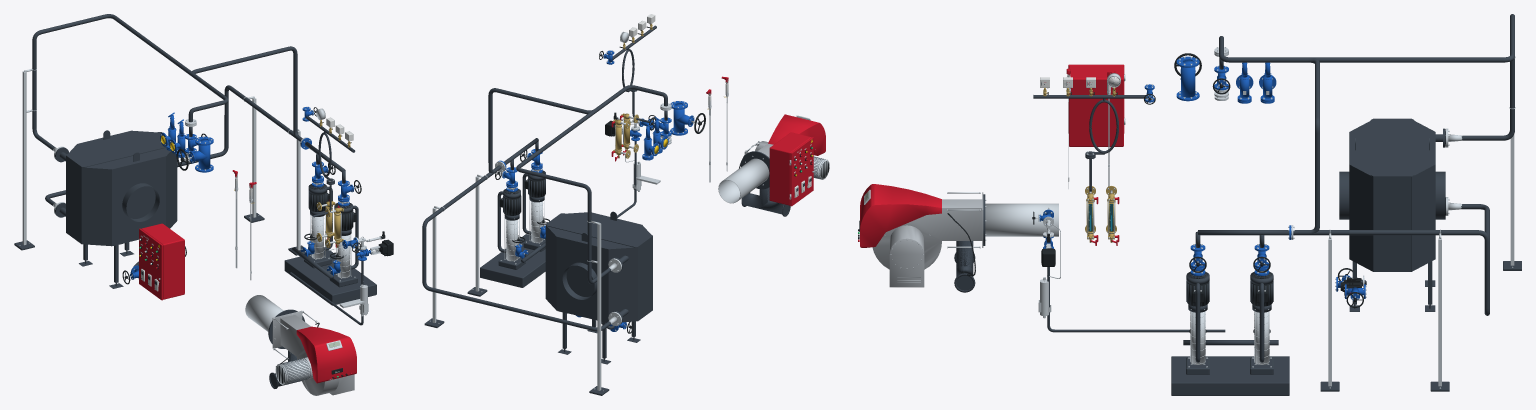
Rendered from s3000-equipment.glb.
3 renders of one model, left to right at view 1: azimuth 30°, elevation 25°; view 2: azimuth 150°, elevation 25°; view 3: azimuth 270°, elevation 25°, orthographic. The views are drawn at different scales.
Parts seen in each view (by area): view 1: economizer geometry, burner geometry, control_cabinet geometry, feed_from_economizer geometry, feed_to_economizer geometry, Pump skid, feed_direct geometry, feed_pumps_2 geometry, feed_pumps_1 geometry, feed_piping geometry, steam_valve geometry, pressure_header geometry (+5 smaller); view 2: economizer geometry, burner geometry, feed_to_economizer geometry, control_cabinet geometry, feed_from_economizer geometry, Pump skid, feed_pumps_2 geometry, feed_direct geometry, feed_pumps_1 geometry, feed_piping geometry, steam_valve geometry, pressure_header geometry (+2 smaller); view 3: economizer geometry, burner geometry, Pump skid, control_cabinet geometry, feed_to_economizer geometry, feed_from_economizer geometry, feed_piping geometry, feed_pumps_2 geometry, feed_pumps_1 geometry, feed_direct geometry, pressure_header geometry, steam_valve geometry (+1 smaller).
Part boxes in pixels (x1,y1,x2,y2): economizer geometry: (55,130,177,288); burner geometry: (245,295,356,395); control_cabinet geometry: (139,223,184,300); feed_from_economizer geometry: (14,14,228,250); feed_to_economizer geometry: (45,85,304,255); Pump skid: (284,249,376,305); feed_direct geometry: (186,46,307,145); feed_pumps_2 geometry: (304,184,331,268); feed_pumps_1 geometry: (329,203,357,287); feed_piping geometry: (185,123,358,279); steam_valve geometry: (176,136,213,172); pressure_header geometry: (306,116,355,217); economizer geometry: (545,211,652,364); burner geometry: (718,114,829,216); feed_to_economizer geometry: (422,161,621,331); control_cabinet geometry: (769,132,813,206); feed_from_economizer geometry: (516,85,671,395); Pump skid: (480,234,545,287); feed_pumps_2 geometry: (498,189,525,269); feed_direct geometry: (488,85,670,173); feed_pumps_1 geometry: (523,170,545,251); feed_piping geometry: (497,107,671,262); steam_valve geometry: (670,101,705,135); pressure_header geometry: (612,25,656,122); economizer geometry: (1339,118,1445,311); burner geometry: (858,184,1058,292); Pump skid: (1171,356,1289,395); control_cabinet geometry: (1068,64,1125,146); feed_to_economizer geometry: (1291,197,1489,391); feed_from_economizer geometry: (1214,14,1521,270); feed_piping geometry: (1183,53,1291,362); feed_pumps_2 geometry: (1250,271,1273,374); feed_pumps_1 geometry: (1186,271,1209,374); feed_direct geometry: (1214,36,1319,239); pressure_header geometry: (1033,95,1146,191); steam_valve geometry: (1174,53,1201,101).
Size of the model in its own units: 3.52 by 2.89 by 6.33.
